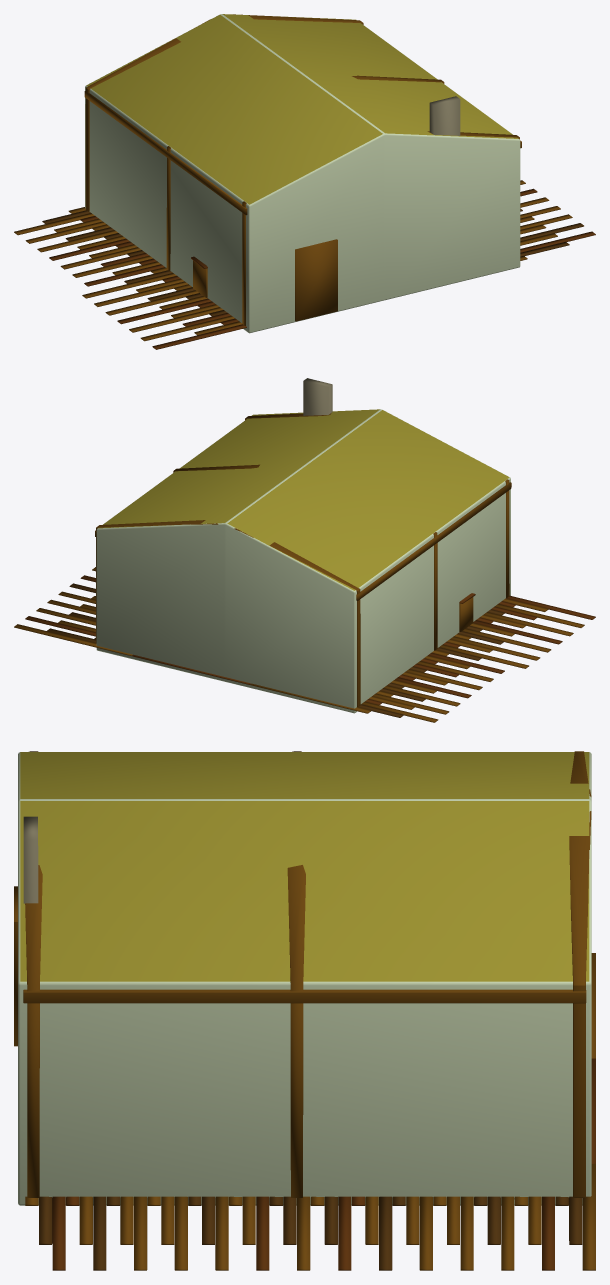
Rendered from tavern color.fbx.
3 views of the same model, one above another, from view 1: azimuth 30°, elevation 25°; view 2: azimuth 150°, elevation 25°; view 3: azimuth 270°, elevation 25° (orthographic). The views are drawn at different scales.
Parts seen in each view (by area): view 1: walls, floor.001, floor, door, pillars.001, beam, fire place, pillars, pillars.002, bar; view 2: walls, floor, floor.001, pillars.001, beam, fire place, pillars, pillars.002, bar; view 3: walls, floor, floor.001, beam.002, pillars.001, pillars, pillars.002, fire place.
Part boxes in pixels (box(x1,y1,x2,y2)): walls: box(85, 14, 520, 333); floor.001: box(82, 180, 595, 349); floor: box(14, 207, 164, 286); door: box(295, 239, 337, 321); pillars.001: box(85, 14, 363, 211); beam: box(84, 91, 247, 215); fire place: box(429, 96, 460, 135); pillars: box(166, 75, 444, 270); pillars.002: box(242, 131, 519, 325); bar: box(191, 256, 207, 297); walls: box(96, 409, 510, 713); floor: box(14, 575, 504, 722); floor.001: box(92, 567, 595, 668); pillars.001: box(96, 520, 360, 706); beam: box(356, 482, 511, 600); fire place: box(303, 378, 332, 415); pillars: box(173, 464, 437, 650); pillars.002: box(245, 413, 509, 597); bar: box(459, 593, 475, 631); walls: box(18, 752, 591, 1205); floor: box(311, 953, 595, 1270); floor.001: box(25, 1196, 310, 1270); beam.002: box(23, 989, 586, 1003); pillars.001: box(569, 751, 591, 1197); pillars: box(287, 751, 305, 1197); pillars.002: box(25, 751, 42, 1197); fire place: box(23, 816, 38, 903).
Size of the model in its own units: 2529 by 981 by 1632.
